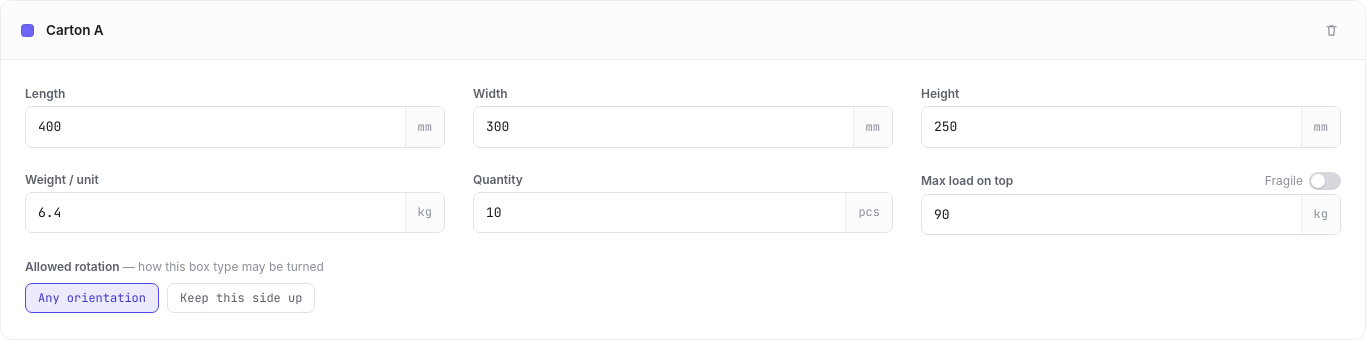
Test: BoxRow — fragile ↔ maxLoad (D-08 / BOX-03) › toggling Fragile ON disables the max-load input and sets it to 0
Expected: the number field labelled "Max load on top" is enabled, [922,194,1301,234]
Expected: the number field labelled "Max load on top" holds "90", [922,194,1301,234]
Click the switch named "Fragile": [1325, 180] box [1309,172,1341,190]
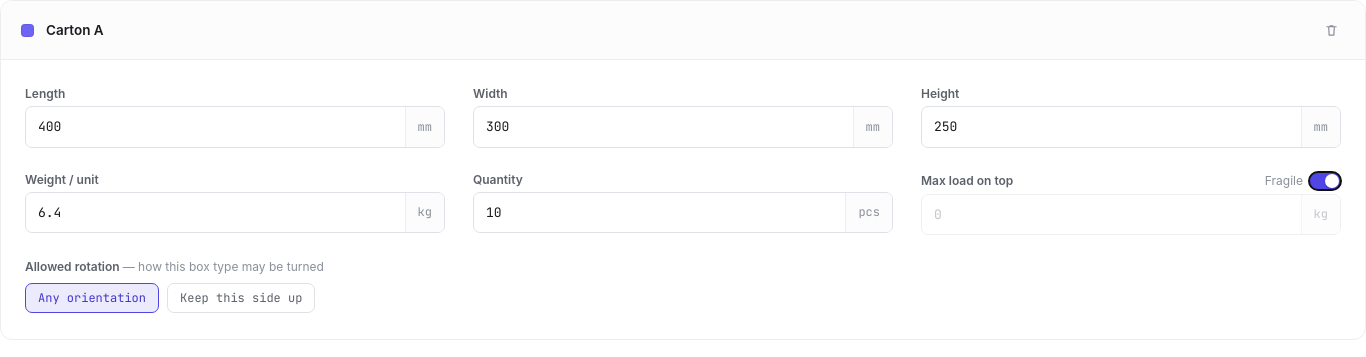
Result: the number field labelled "Max load on top" is disabled at [922,194,1301,234]
Result: the number field labelled "Max load on top" holds "0" at [922,194,1301,234]
